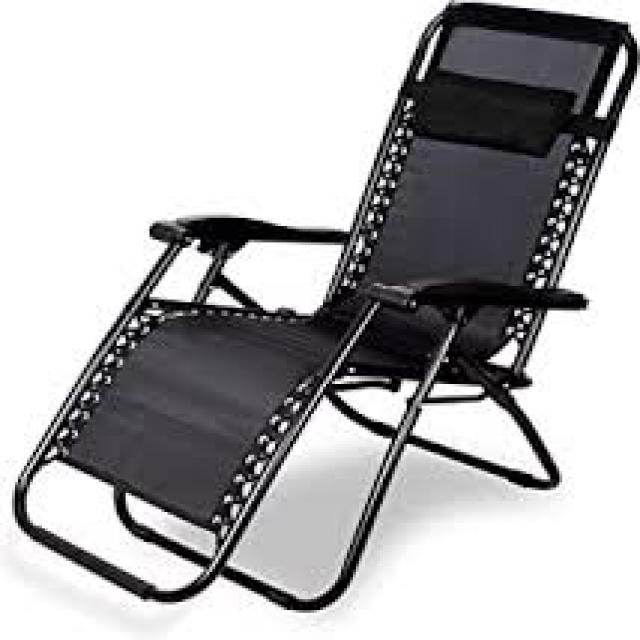chair: (12, 0, 640, 615)
